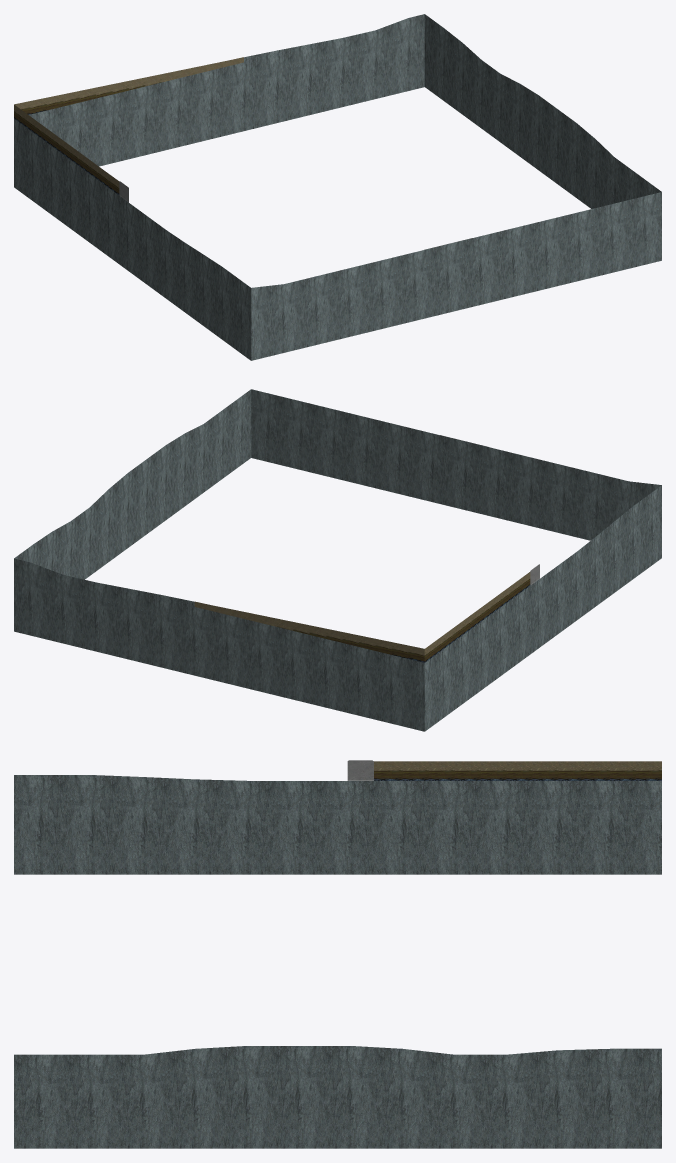
3 renders of one model, top to bottom at view 1: azimuth 30°, elevation 25°; view 2: azimuth 150°, elevation 25°; view 3: azimuth 270°, elevation 25°, orthographic. The views are drawn at different scales.
Visible parts, largest first — view 1: Joint_0_Object_1, Joint_0_Object_2; view 2: Joint_0_Object_1, Joint_0_Object_2; view 3: Joint_0_Object_1, Joint_0_Object_2, Joint_0_Object_0.
Part boxes in pixels (x1,y1,x2,y2): Joint_0_Object_1: (14, 14, 661, 360); Joint_0_Object_2: (14, 57, 243, 195); Joint_0_Object_1: (14, 389, 661, 731); Joint_0_Object_2: (194, 572, 530, 662); Joint_0_Object_1: (14, 775, 661, 1148); Joint_0_Object_2: (374, 761, 661, 780); Joint_0_Object_0: (347, 760, 373, 780).
Size of the model in its own units: 10000 by 1949 by 10000.
